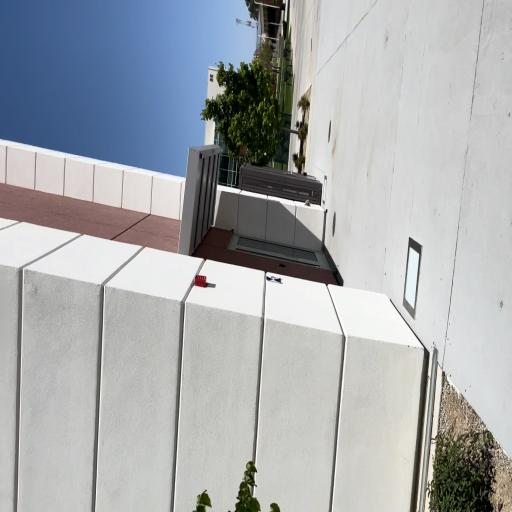target9: (266, 275, 281, 284)
